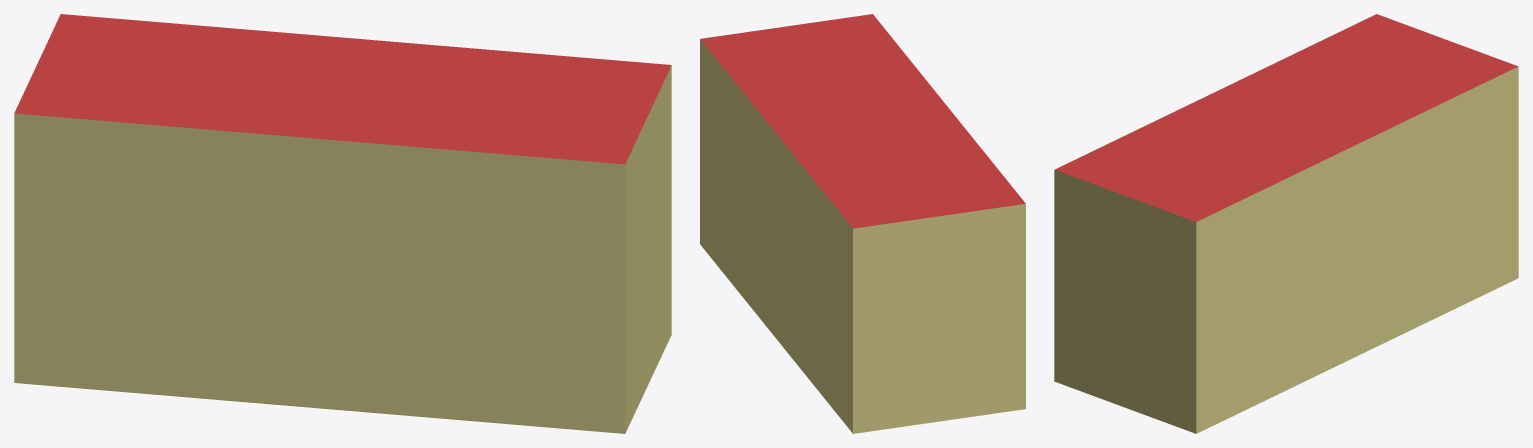
3 renders of one model, left to right at view 1: azimuth 30°, elevation 25°; view 2: azimuth 150°, elevation 25°; view 3: azimuth 270°, elevation 25°, orthographic. The views are drawn at different scales.
Parts seen in each view (by area): view 1: group_4, group_3; view 2: group_4, group_3; view 3: group_4, group_3.
Part boxes in pixels (<box>): group_4: <box>14,66,671,433</box>; group_3: <box>14,14,671,164</box>; group_4: <box>700,39,1025,433</box>; group_3: <box>700,14,1025,228</box>; group_4: <box>1054,66,1518,433</box>; group_3: <box>1055,14,1517,221</box>.
Size of the model in its own units: 34.23 by 32.26 by 16.25.
